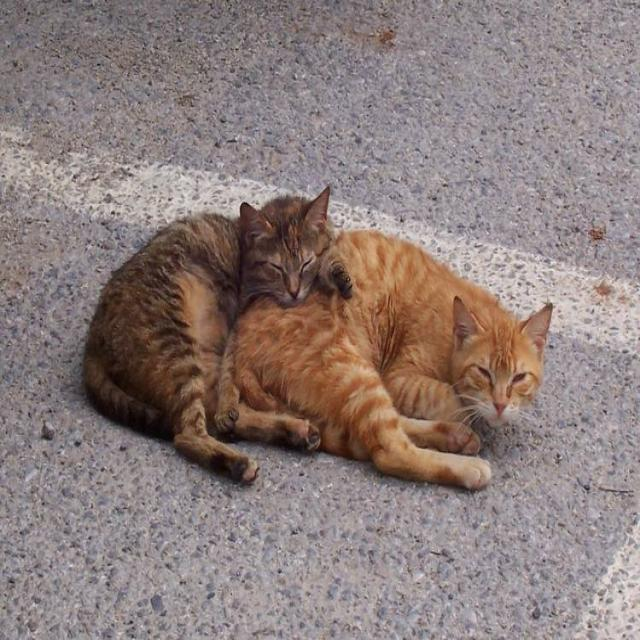cat: (216, 232, 551, 488), (84, 189, 350, 481), (235, 407, 320, 450)
